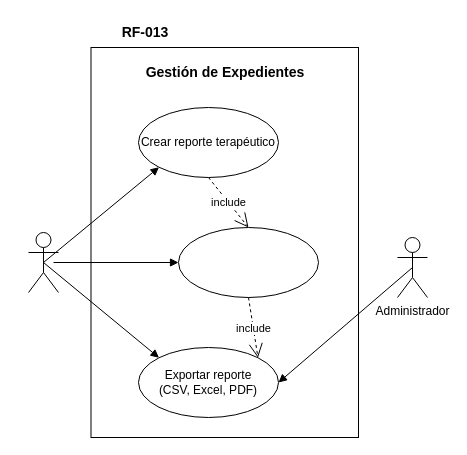
Some shapes in this 467 by 455 pixel diagram are drawn without their labels. Each missing label, with the centre of its shape:
"Editar y guardar reporte" belongs at [248,262].
"Terapeuta" belongs at [43,262].
